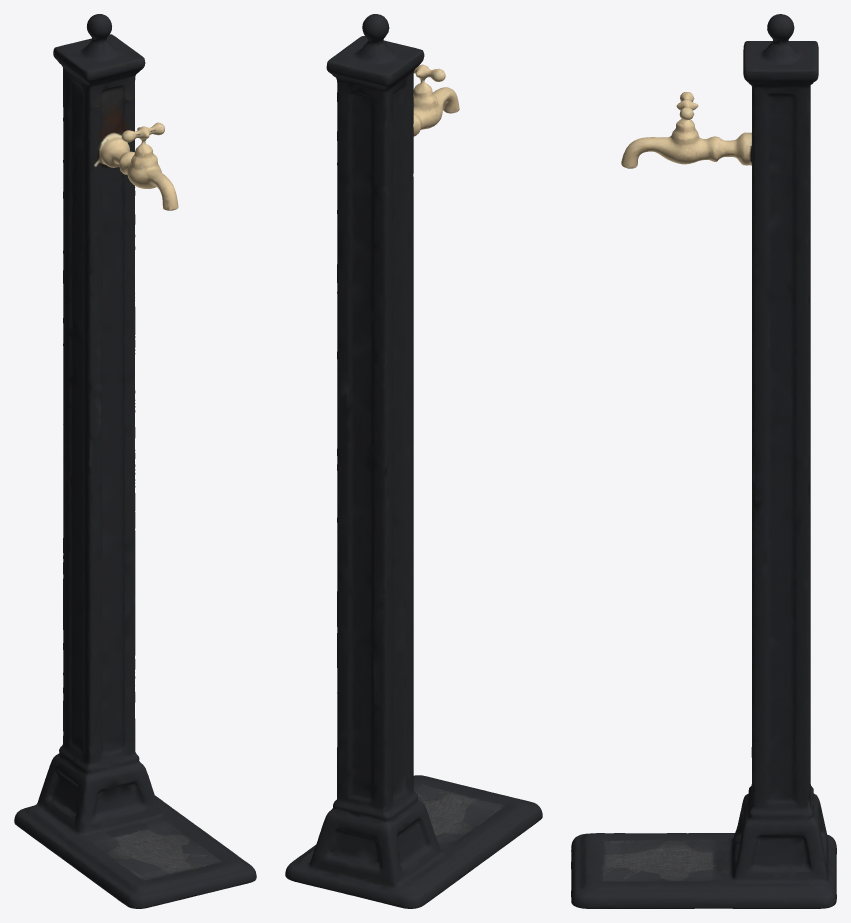
The model's file is Meshy_AI_Simple_narrow_vertica_0826123006_texture.fbx.
3 views of the same model, side by side, from view 1: azimuth 30°, elevation 25°; view 2: azimuth 150°, elevation 25°; view 3: azimuth 270°, elevation 25° (orthographic). The views are drawn at different scales.
Parts seen in each view (by area): view 1: mesh_node; view 2: mesh_node; view 3: mesh_node.
Boxes of the visible parts, <box> form: mesh_node: <box>14,14,256,908</box>; mesh_node: <box>285,14,542,908</box>; mesh_node: <box>571,14,836,908</box>.
Size of the model in its own units: 31.61 by 190 by 53.16.
1 material, 1 textured.
